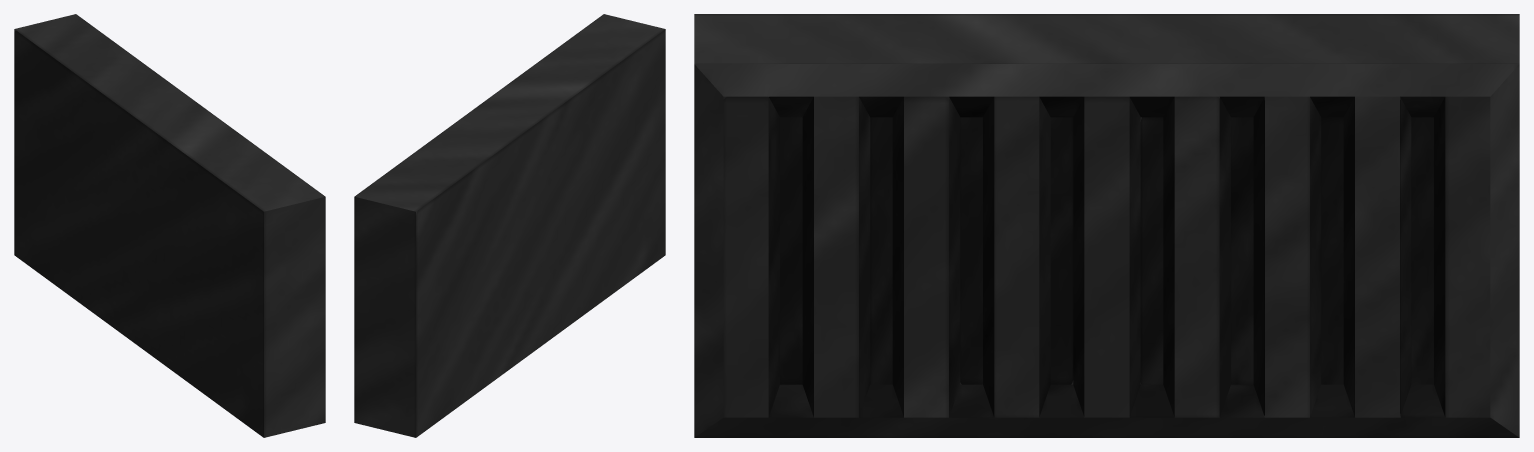
The model's file is vent.obj.
3 renders of one model, left to right at view 1: azimuth 30°, elevation 25°; view 2: azimuth 150°, elevation 25°; view 3: azimuth 270°, elevation 25°, orthographic. The views are drawn at different scales.
Parts seen in each view (by area): view 1: vent; view 2: vent; view 3: vent.
Boxes of the visible parts, x1,y1,x2,y2 form: vent: (14, 14, 325, 437); vent: (354, 14, 665, 437); vent: (694, 14, 1519, 437).
Size of the model in its own units: 0.1406 by 0.4375 by 0.875.
1 material, 1 textured.
